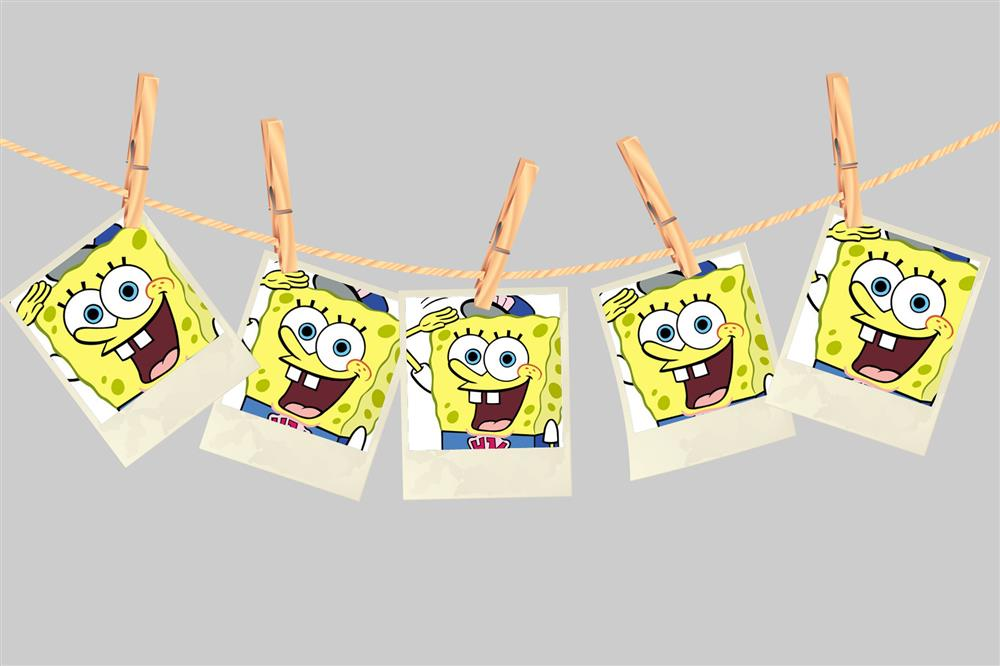SpongeBob: (8, 210, 222, 428)
